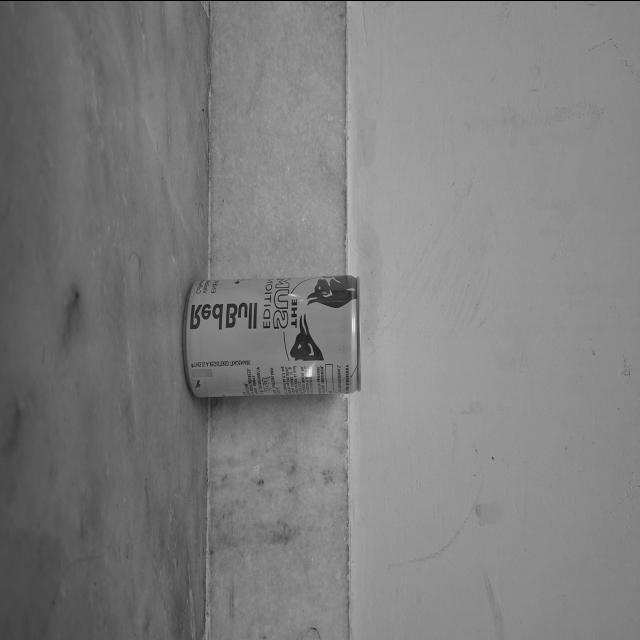Redbull Summer Edition: (182, 271, 368, 411)
